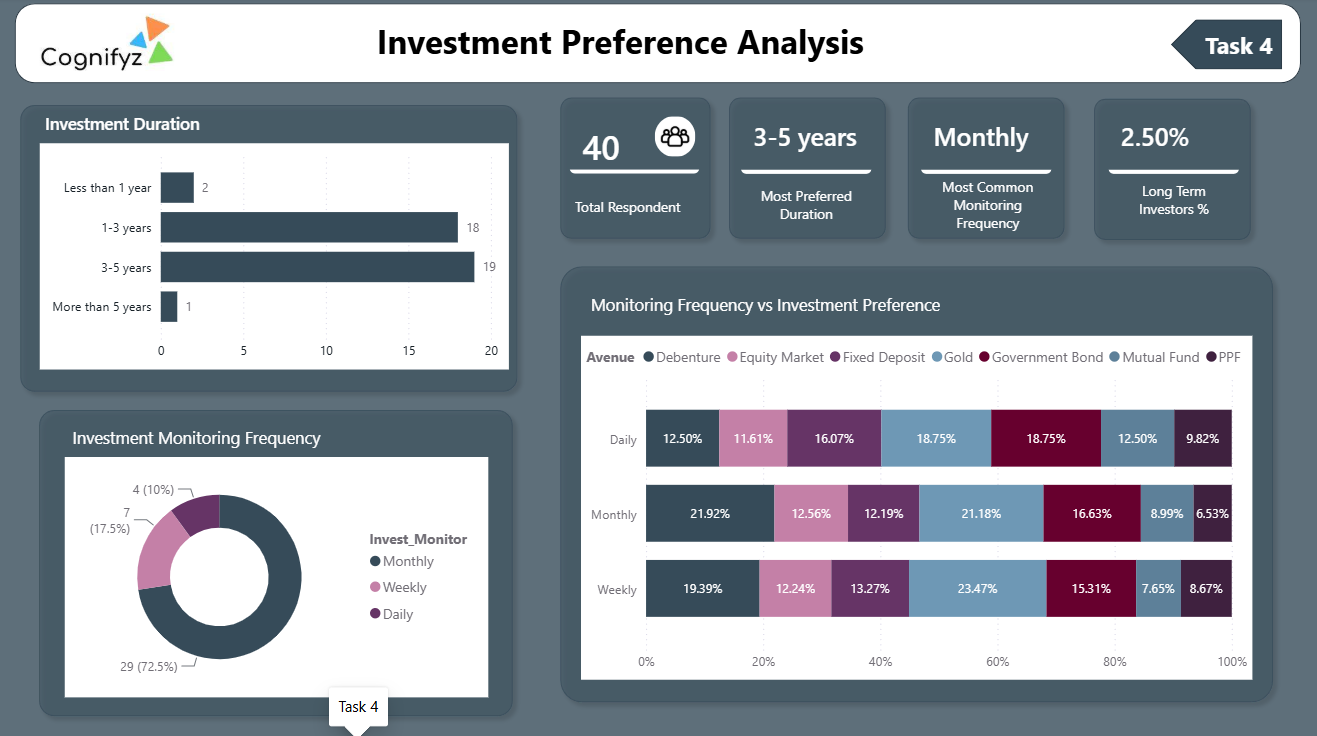

This screenshot's page, from the dashboard's own definition file:
{"tool":"powerbi","page":{"name":"   Task 4","canvas":[1280,720],"ordinal":3},"visuals":[{"type":"shape","box":[535.4,250.8,706,438.9],"z":0},{"type":"shape","box":[15,95.3,497.8,294.7],"z":1000},{"type":"shape","box":[32.6,390,475.2,313.5],"z":2000},{"type":"shape","box":[18.1,6,1241.4,77.2],"z":3000},{"type":"textbox","box":[307.6,15.7,589.9,59.1],"z":4000},{"type":"image","box":[42.2,9.7,130.3,70],"z":5000},{"type":"shape","box":[1134.1,21.7,107.4,48.3],"z":6000},{"type":"textbox","box":[69,408.8,317.2,35.1],"z":7000},{"type":"textbox","box":[42.6,106.6,357.4,35.1],"z":8000},{"type":"clusteredBarChart","fields":{"Y":["Measure.Total Respondents"],"Category":["Duration Lookup.Duration"]},"box":[42.6,141.7,452.7,218.2],"z":9000},{"type":"donutChart","fields":{"Category":["Data_set 2.Invest_Monitor"],"Y":["Measure.Total Respondents"]},"box":[66.5,443.9,408.8,232],"z":10000},{"type":"hundredPercentStackedBarChart","fields":{"Category":["Data_set 2.Invest_Monitor"],"Y":["Measure.Investment Selection Count"],"Series":["Investment Avenue.Avenue"]},"box":[564.3,327.3,648.3,332.3],"z":11000},{"type":"shape","box":[698.4,87.8,169.3,154.2],"z":12000},{"type":"cardVisual","fields":{"Data":["Measure.Most Preferred Duration"]},"box":[714.7,99.1,136.7,77.7],"z":13000},{"type":"shape","box":[535.4,87.8,163,154.2],"z":14000},{"type":"cardVisual","fields":{"Data":["Measure.Total Respondents"]},"box":[549.2,104.1,135.4,72.7],"z":15000},{"type":"image","box":[635.7,114.1,38.9,40.1],"z":16000},{"type":"textbox","box":[554.2,188.1,125.4,27.6],"z":17000},{"type":"textbox","box":[727.3,176.8,109.1,48.9],"z":18000},{"type":"shape","box":[871.5,87.8,169.3,154.2],"z":19000},{"type":"cardVisual","fields":{"Data":["Measure.Most Common Monitoring Frequency"]},"box":[887.8,99.1,136.7,77.7],"z":20000},{"type":"textbox","box":[897.8,169.3,119.1,64],"z":21000},{"type":"shape","box":[1050.8,89,169.3,154.2],"z":22000},{"type":"cardVisual","fields":{"Data":["Measure.Long Term Investors %"]},"box":[1068.3,99.1,136.7,77.7],"z":23000},{"type":"textbox","box":[1077.1,173,119.1,46.4],"z":24000},{"type":"textbox","box":[564.3,280.9,541.7,35.1],"z":25000}]}

Visuals, with their boxes in screenshot pixels (x1, y1, x2, y2), scaled from the page's 1280x720 canvas onto the 1317x736 screenshot:
shape: <bbox>551, 256, 1277, 705</bbox>
shape: <bbox>15, 97, 528, 399</bbox>
shape: <bbox>34, 399, 522, 719</bbox>
shape: <bbox>19, 6, 1296, 85</bbox>
textbox: <bbox>316, 16, 923, 76</bbox>
image: <bbox>43, 10, 177, 81</bbox>
shape: <bbox>1167, 22, 1277, 72</bbox>
textbox: <bbox>71, 418, 397, 454</bbox>
textbox: <bbox>44, 109, 412, 145</bbox>
clusteredBarChart - Measure.Total Respondents x Duration Lookup.Duration: <bbox>44, 145, 510, 368</bbox>
donutChart - Data_set 2.Invest_Monitor x Measure.Total Respondents: <bbox>68, 454, 489, 691</bbox>
hundredPercentStackedBarChart - Data_set 2.Invest_Monitor x Measure.Investment Selection Count: <bbox>581, 335, 1248, 674</bbox>
shape: <bbox>719, 90, 893, 247</bbox>
cardVisual - Measure.Most Preferred Duration: <bbox>735, 101, 876, 181</bbox>
shape: <bbox>551, 90, 719, 247</bbox>
cardVisual - Measure.Total Respondents: <bbox>565, 106, 704, 181</bbox>
image: <bbox>654, 117, 694, 158</bbox>
textbox: <bbox>570, 192, 699, 220</bbox>
textbox: <bbox>748, 181, 861, 231</bbox>
shape: <bbox>897, 90, 1071, 247</bbox>
cardVisual - Measure.Most Common Monitoring Frequency: <bbox>913, 101, 1054, 181</bbox>
textbox: <bbox>924, 173, 1046, 238</bbox>
shape: <bbox>1081, 91, 1255, 249</bbox>
cardVisual - Measure.Long Term Investors %: <bbox>1099, 101, 1240, 181</bbox>
textbox: <bbox>1108, 177, 1231, 224</bbox>
textbox: <bbox>581, 287, 1138, 323</bbox>
